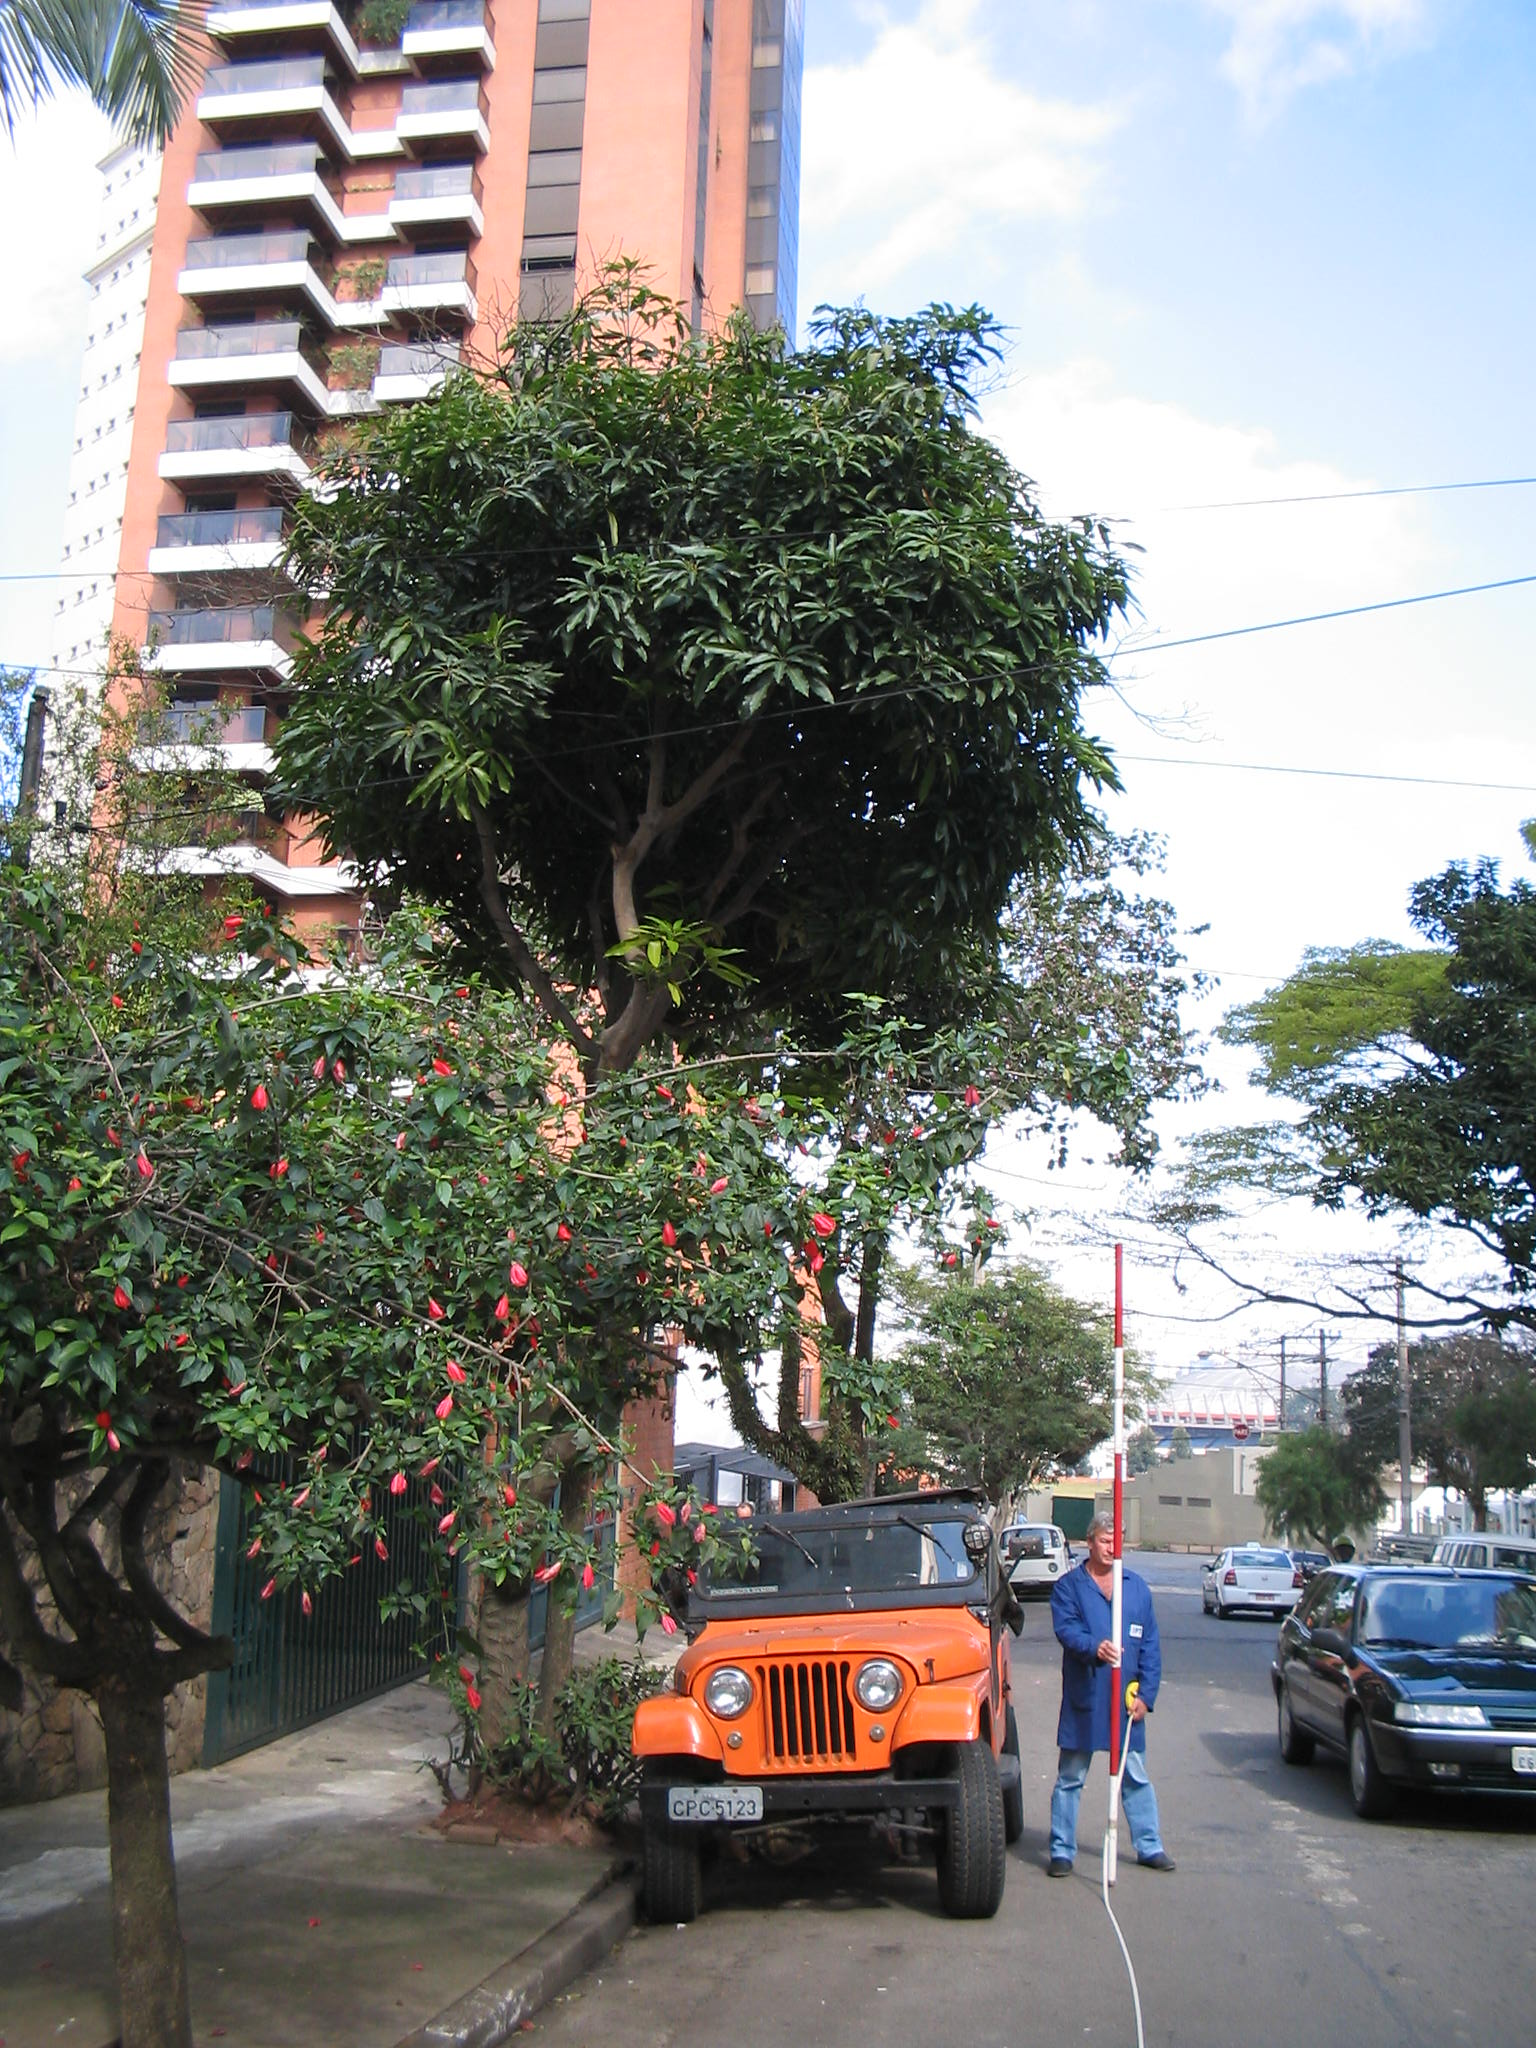crown: (273, 250, 1115, 1097), (11, 824, 545, 1658)
stick: (1078, 1242, 1162, 1887)
tree: (265, 247, 1115, 1825), (3, 818, 552, 2048)
